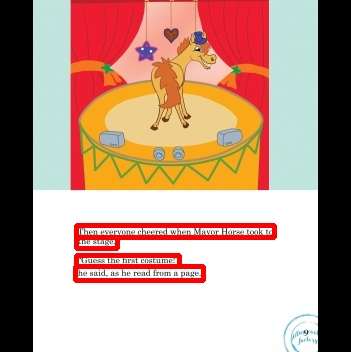latin: (76, 225, 274, 237), (75, 266, 203, 280), (76, 255, 179, 266), (76, 237, 117, 248)
